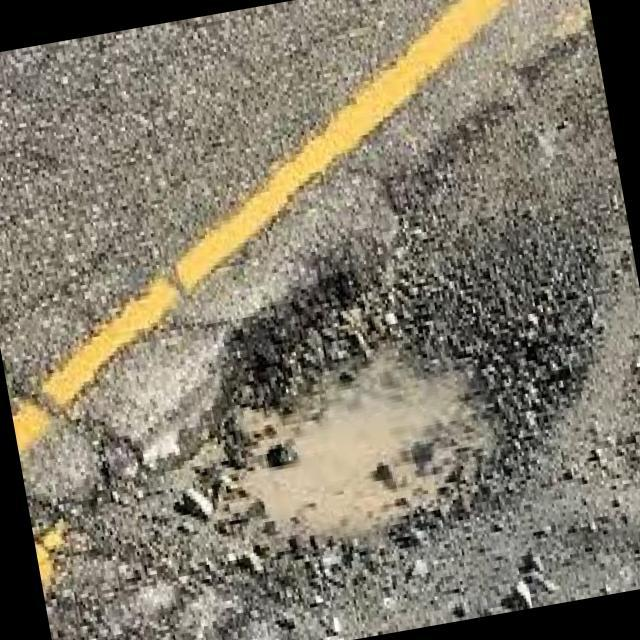Pothole: (221, 274, 595, 543)
